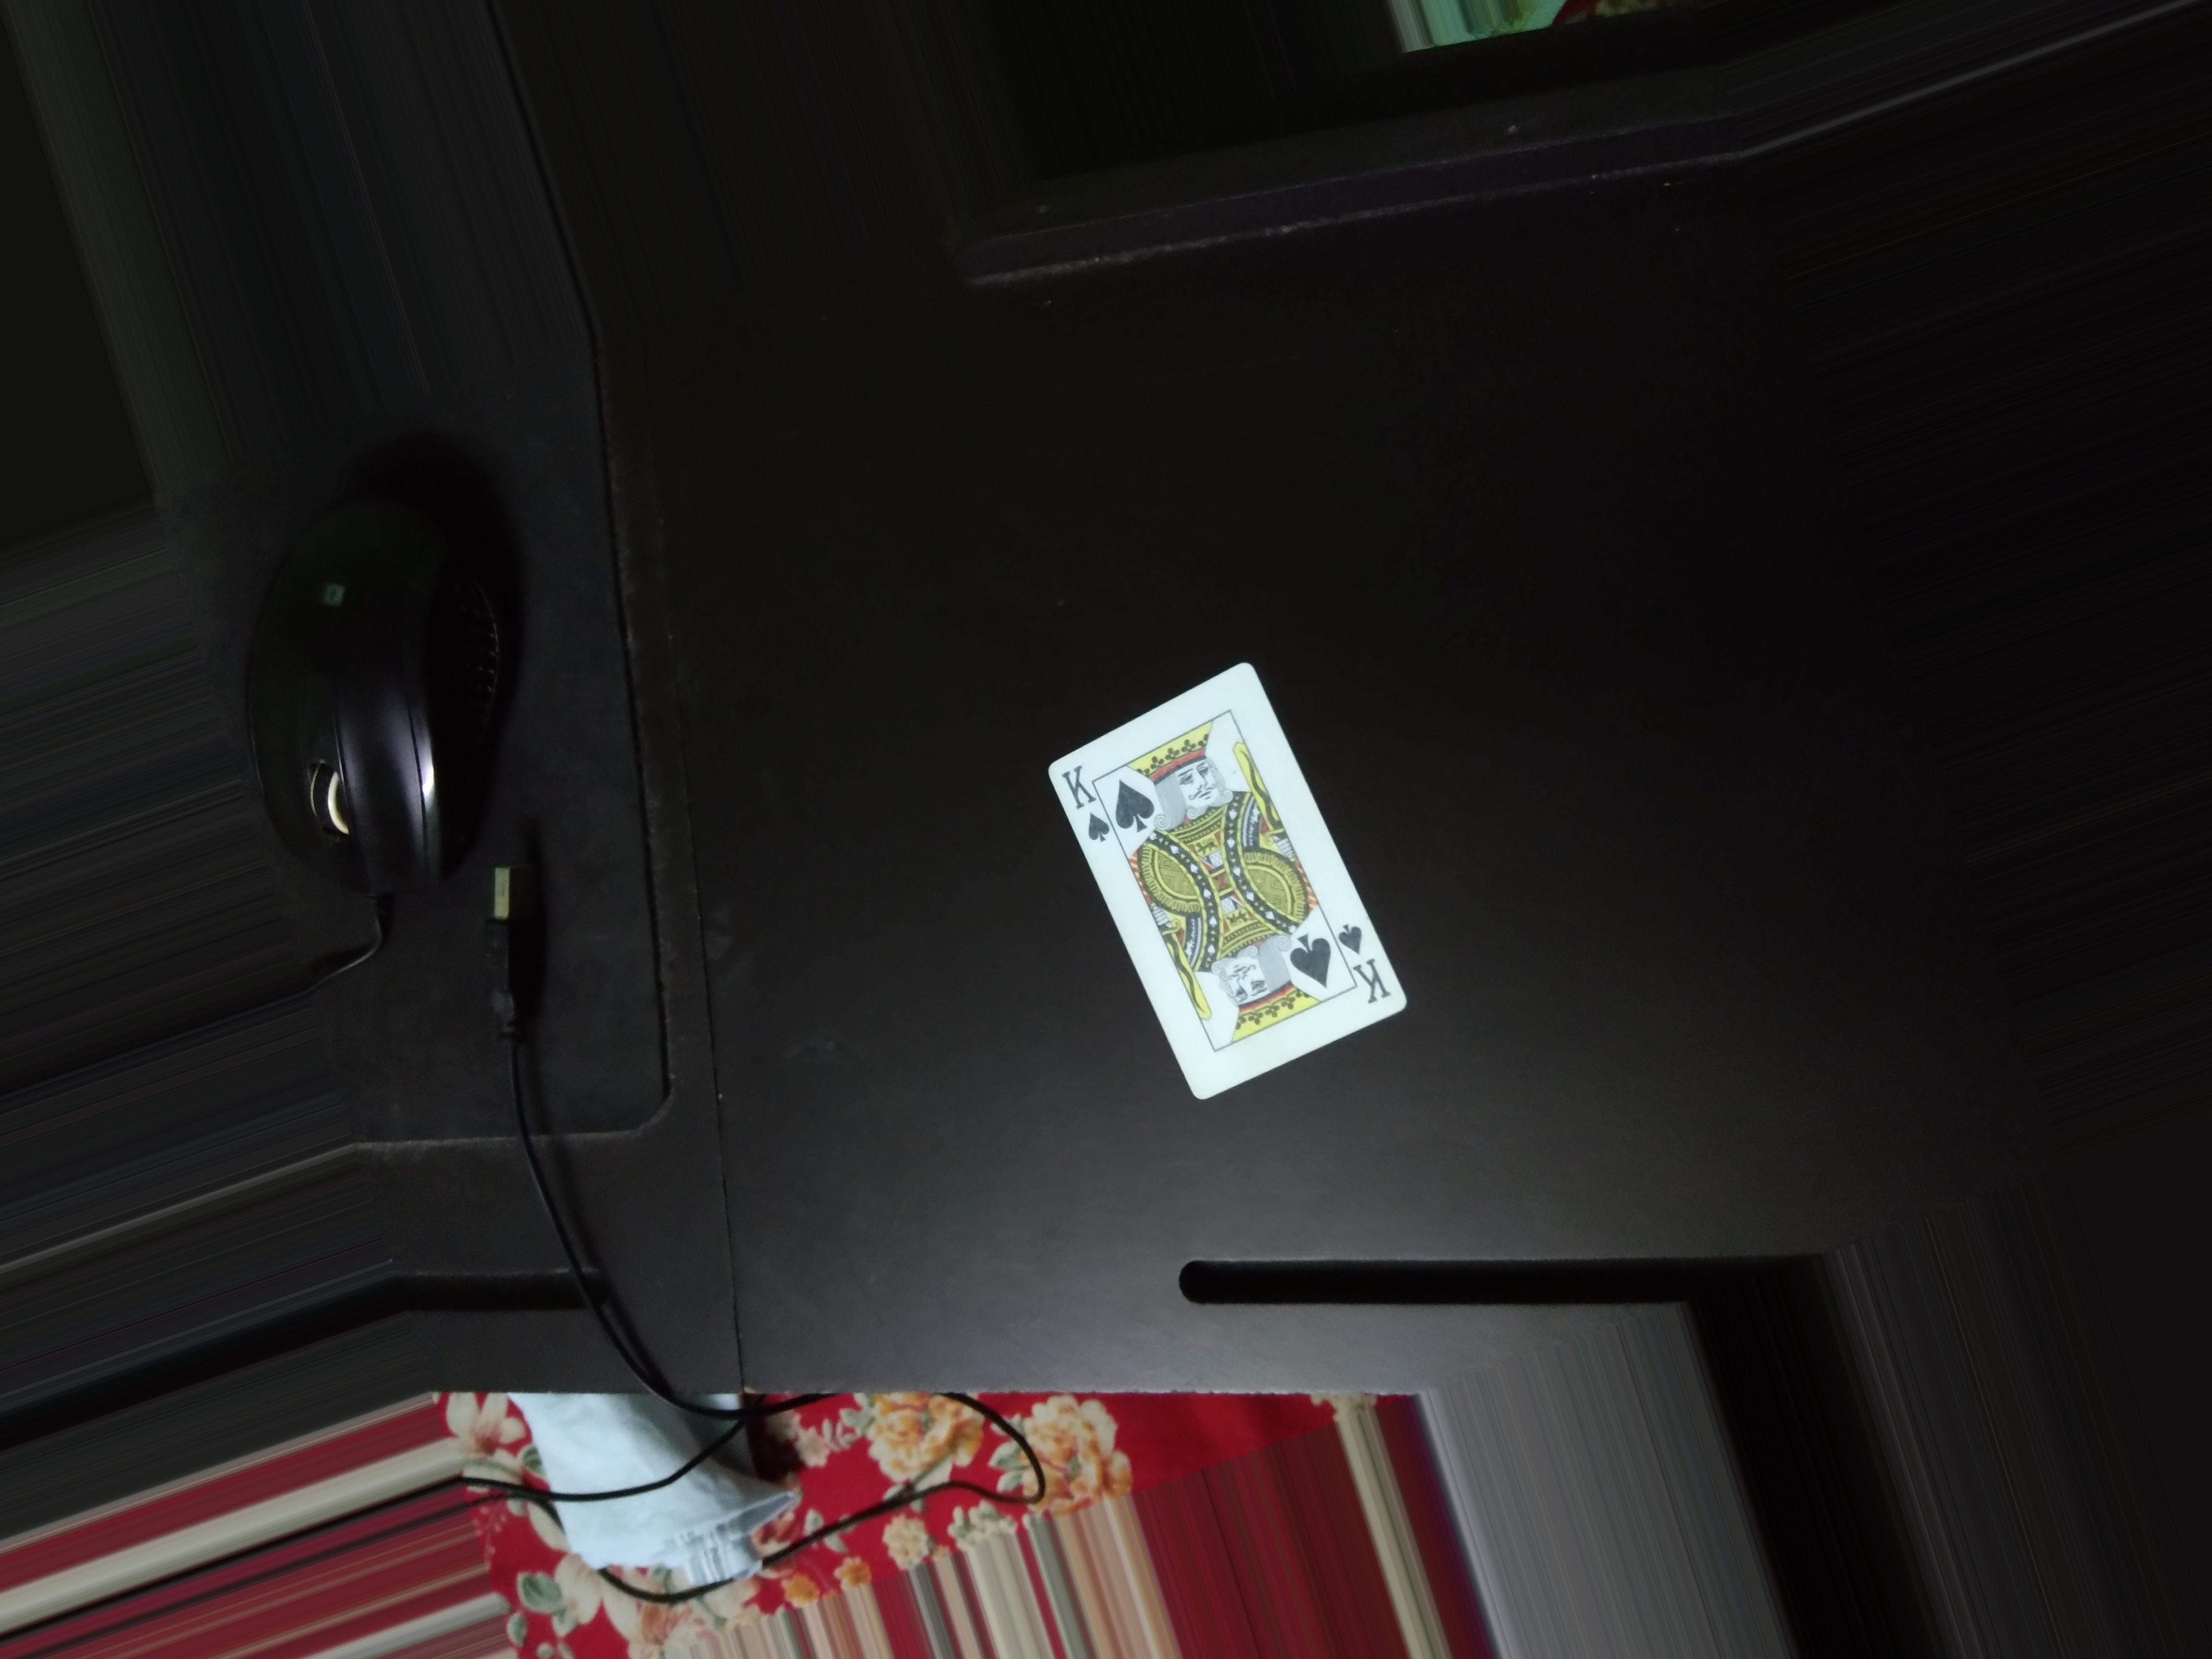KS: (1057, 762, 1108, 850)
